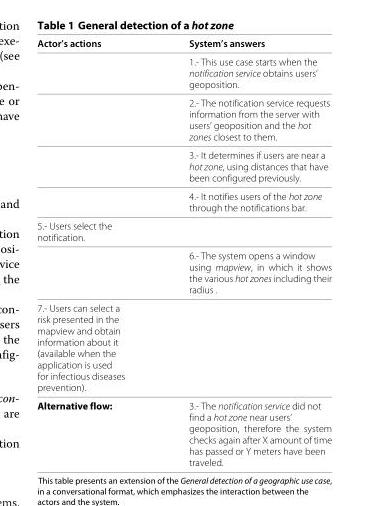table: (36, 37, 331, 467)
table column: (156, 37, 331, 467), (36, 37, 156, 467)
table column header: (36, 37, 331, 52)
table projected row header: (36, 298, 331, 395), (36, 216, 331, 246)
table row: (36, 298, 331, 395), (36, 395, 331, 467), (36, 93, 331, 145), (36, 246, 331, 298), (36, 52, 331, 93), (36, 145, 331, 186), (36, 186, 331, 216), (36, 216, 331, 246), (36, 37, 331, 52)
